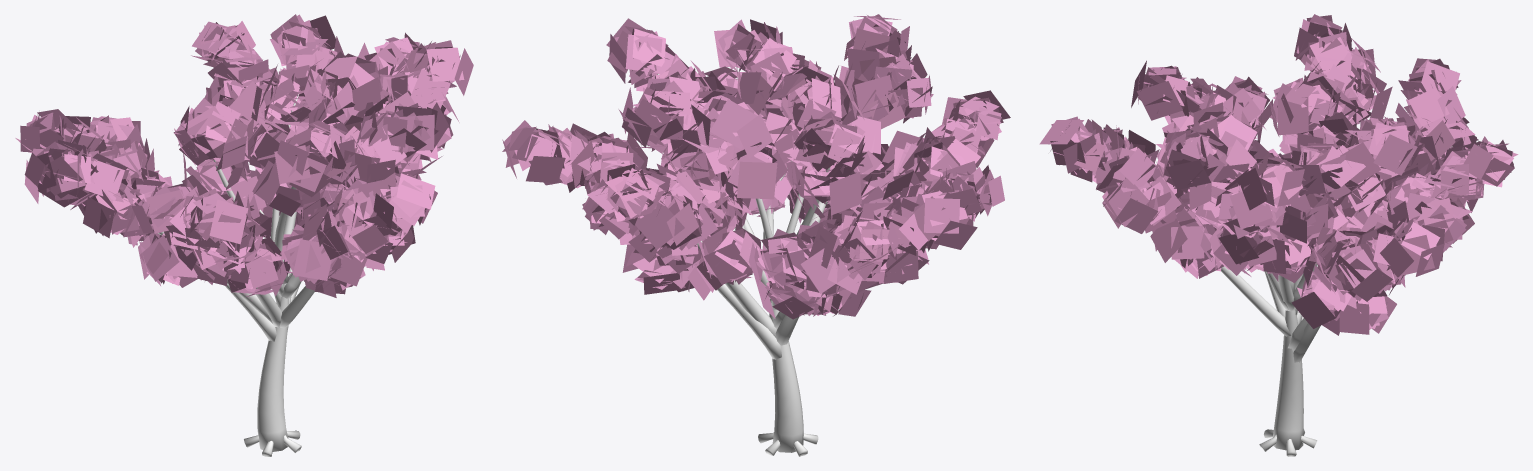
File: SM_Sakura_Hero_LOD0.fbx
3 renders of one model, left to right at view 1: azimuth 30°, elevation 25°; view 2: azimuth 150°, elevation 25°; view 3: azimuth 270°, elevation 25°, orthographic. The views are drawn at different scales.
Parts seen in each view (by area): view 1: SM_Sakura_Hero_LOD0; view 2: SM_Sakura_Hero_LOD0; view 3: SM_Sakura_Hero_LOD0.
Boxes of the visible parts, <box> form: SM_Sakura_Hero_LOD0: <box>15,14,473,456</box>; SM_Sakura_Hero_LOD0: <box>502,14,1010,456</box>; SM_Sakura_Hero_LOD0: <box>1039,14,1518,456</box>.
Size of what is drawn, in the model's own units: 9.61 by 9.18 by 7.68.
